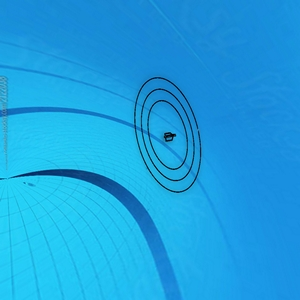circle: (122, 75, 218, 198)
submarine: (162, 132, 178, 142)
